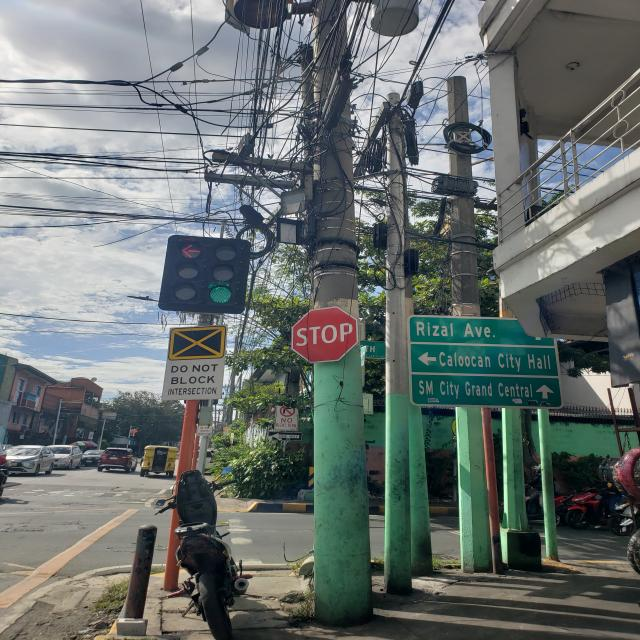stop-sign: (292, 306, 359, 364)
